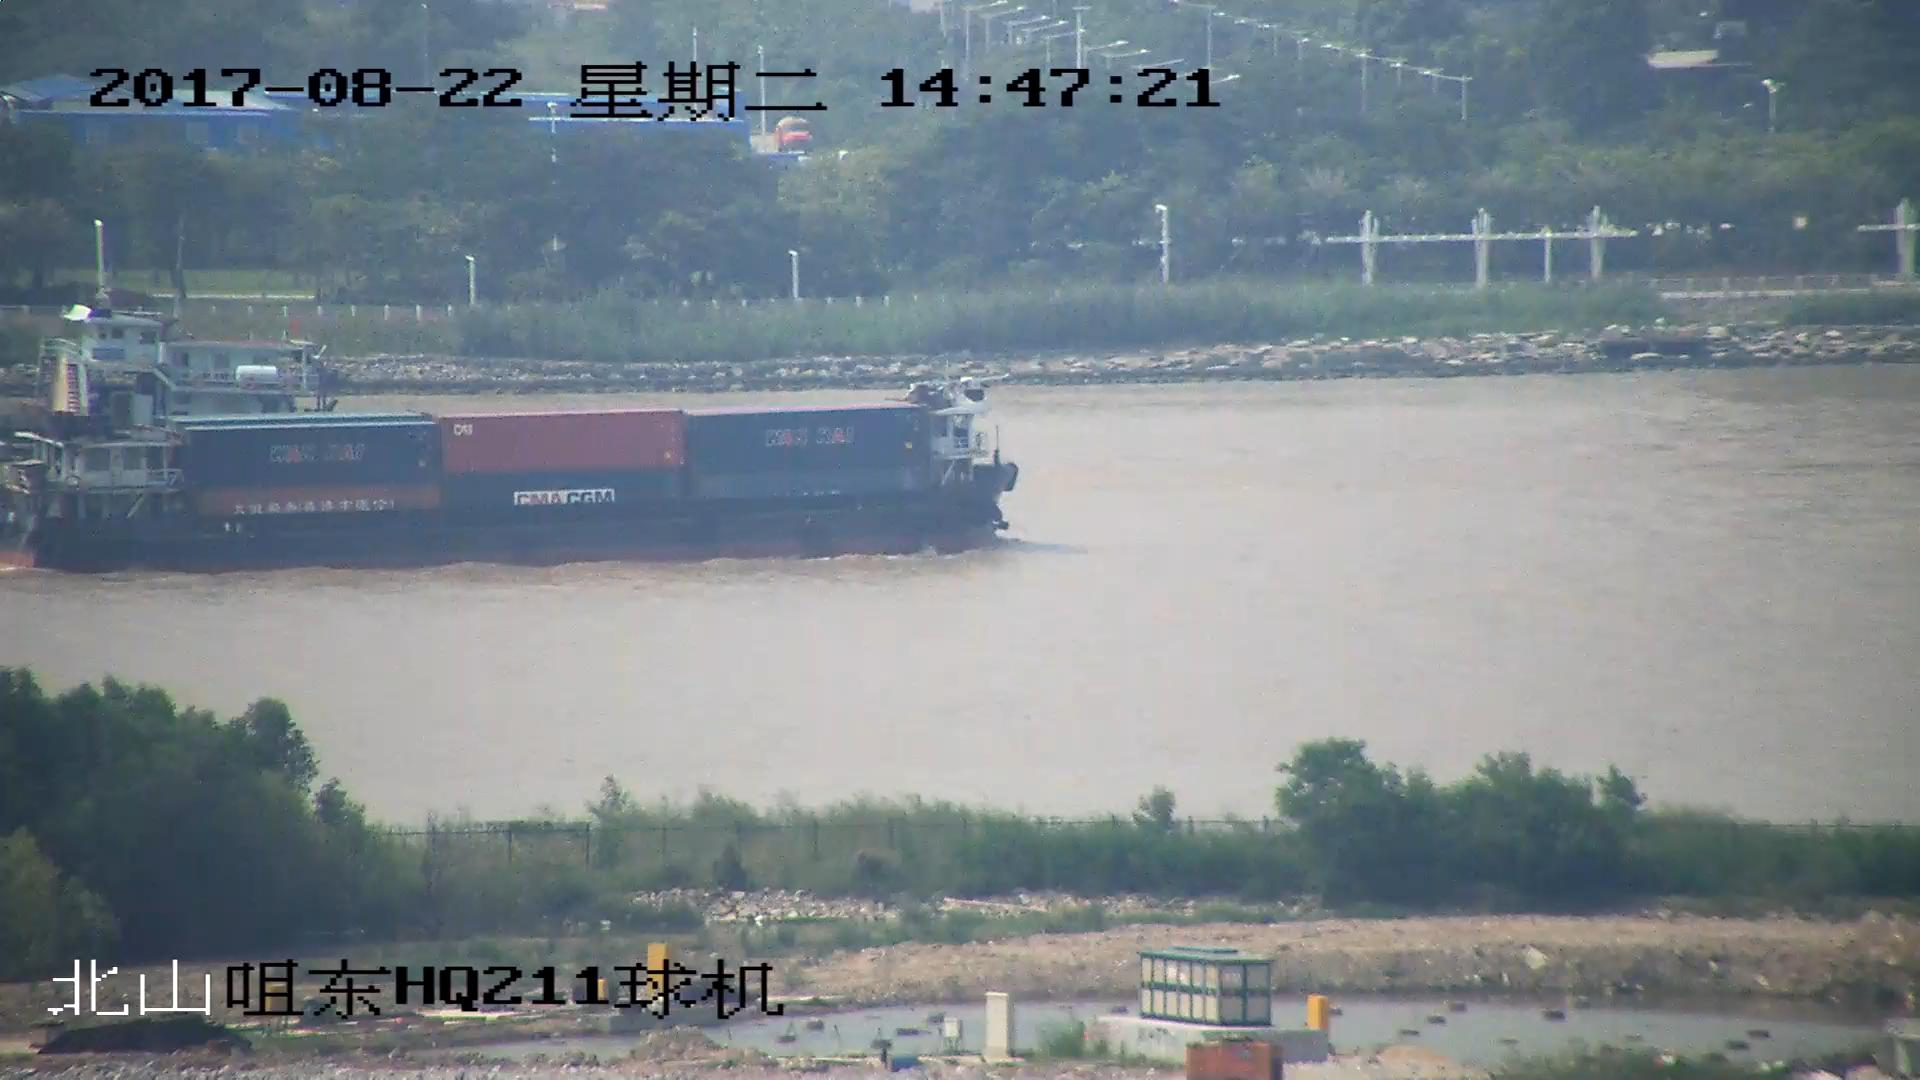bulk cargo carrier: (1, 288, 348, 425)
container ship: (1, 375, 1029, 563)
